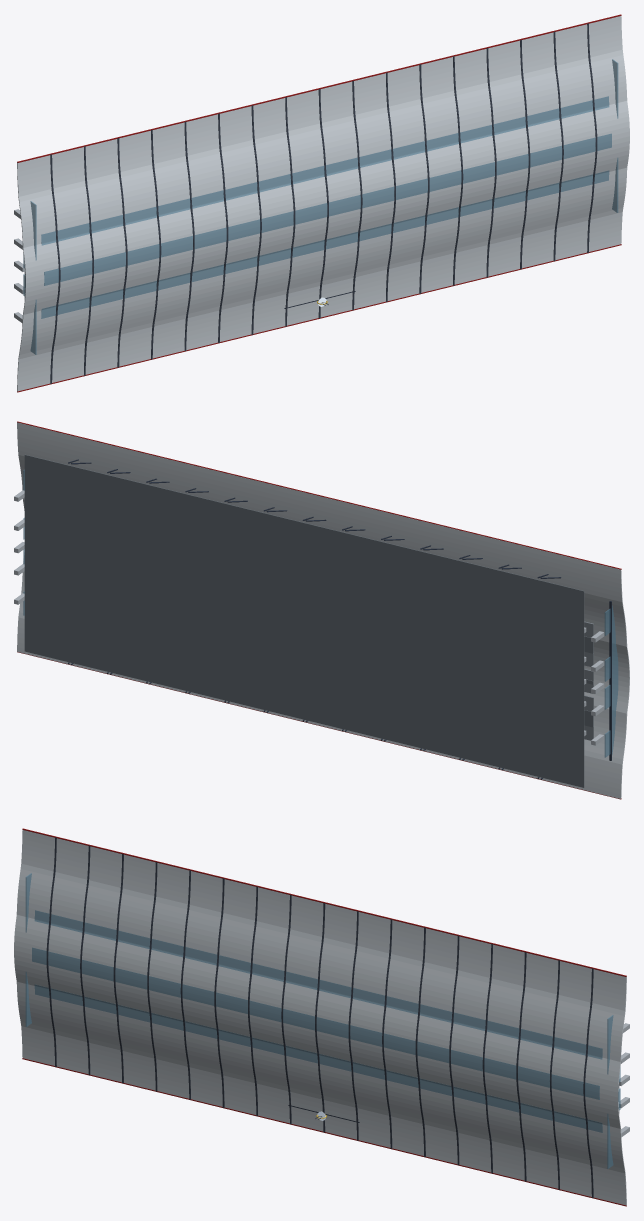
Rendered from krung-thep-aphiwat.glb.
3 views of the same model, one above another, from view 1: azimuth 30°, elevation 25°; view 2: azimuth 150°, elevation 25°; view 3: azimuth 330°, elevation 25° (orthographic).
Visible parts, largest first — view 1: MainGullWingRoof, RoofCanopies, CenterSkylight, WestSkylight, EastSkylight, GablePortals; view 2: ConcoursePodium, MainGullWingRoof, GablePortals, RoofCanopies; view 3: MainGullWingRoof, RoofCanopies, CenterSkylight, WestSkylight, EastSkylight, GablePortals.
Boxes of the visible parts, box(x1,y1,x2,y2) form: MainGullWingRoof: box(17, 16, 629, 391); RoofCanopies: box(17, 14, 621, 392); CenterSkylight: box(44, 133, 611, 285); WestSkylight: box(41, 96, 609, 245); EastSkylight: box(41, 170, 609, 318); GablePortals: box(23, 59, 618, 354); ConcoursePodium: box(14, 454, 604, 787); MainGullWingRoof: box(17, 422, 629, 798); GablePortals: box(23, 470, 618, 760); RoofCanopies: box(17, 421, 621, 799); MainGullWingRoof: box(14, 830, 626, 1205); RoofCanopies: box(22, 828, 626, 1206); CenterSkylight: box(32, 947, 599, 1099); WestSkylight: box(34, 910, 602, 1059); EastSkylight: box(34, 984, 602, 1132); GablePortals: box(25, 873, 620, 1168).
Bounding box in the file's own units: 540 × 197 × 36.95.
